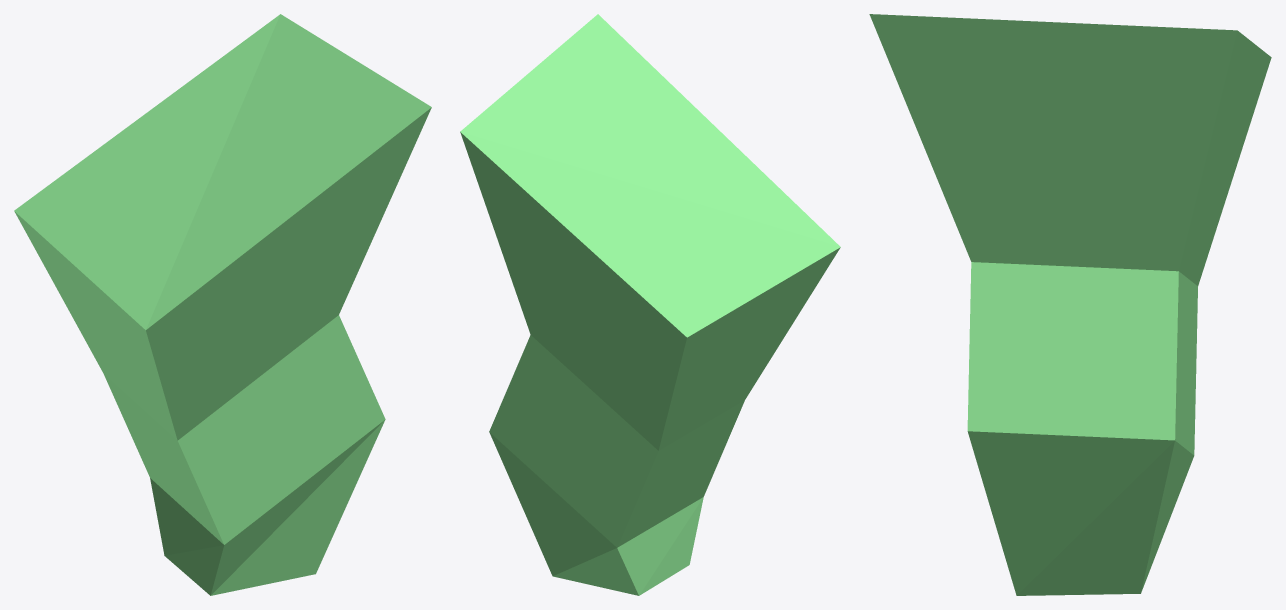
File: Troll Stalagmite 1.FBX
The picture shows the model from 3 angles, left to right: view 1: azimuth 30°, elevation 25°; view 2: azimuth 150°, elevation 25°; view 3: azimuth 270°, elevation 25°; orthographic projection. The views are drawn at different scales.
Visible parts, largest first — view 1: Object006; view 2: Object006; view 3: Object006.
Part boxes in pixels (left/top/right/bottom): Object006: left=14, top=14, right=431, bottom=595; Object006: left=460, top=14, right=840, bottom=595; Object006: left=869, top=14, right=1271, bottom=595.
Bounding box in the file's own units: 209 × 366 × 216.
